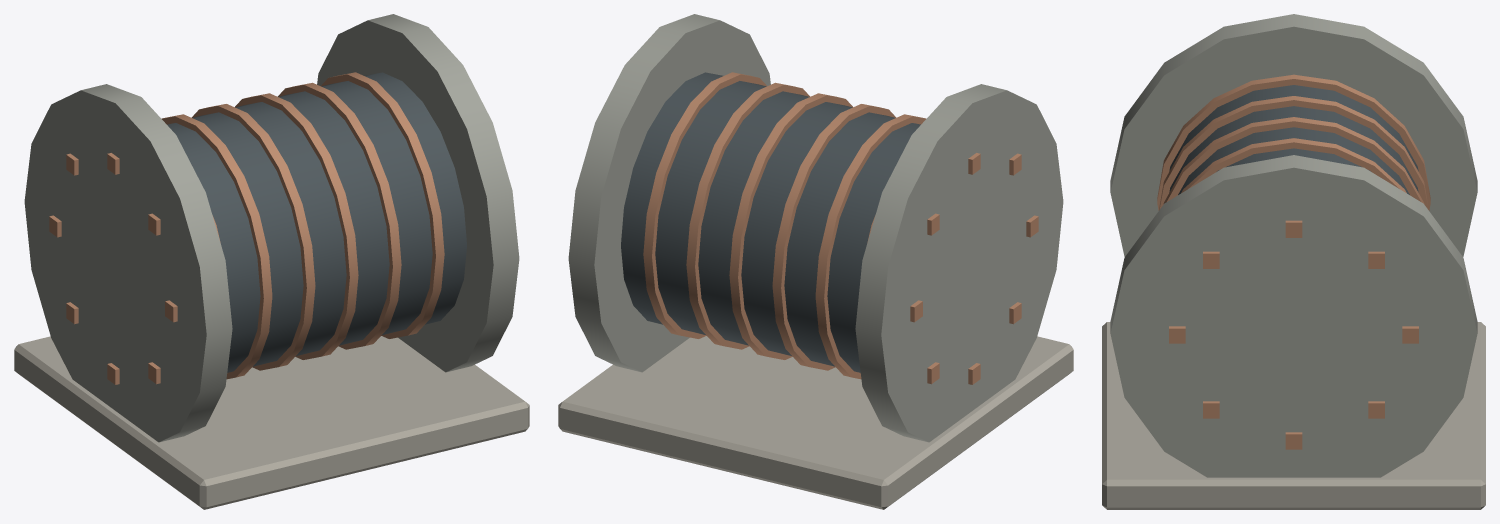
File: waste_cable_reel.glb
3 views of the same model, side by side, from view 1: azimuth 30°, elevation 25°; view 2: azimuth 150°, elevation 25°; view 3: azimuth 270°, elevation 25° (orthographic).
Visible parts, largest first — view 1: duststeel, blacksteel, concrete, duststeel.001, rust.019, rust.021, rust.018, rust.020, rust.017; view 2: duststeel, blacksteel, concrete, duststeel.001, rust.019, rust.021, rust.018, rust.020, rust.017; view 3: duststeel.001, duststeel, concrete, blacksteel, rust.016, rust.017, rust.018, rust.019.
Part boxes in pixels (x1,y1,x2,y2): duststeel: [24, 84, 232, 442]; blacksteel: [167, 72, 466, 372]; concrete: [14, 336, 529, 509]; duststeel.001: [317, 14, 519, 372]; rust.019: [235, 93, 358, 359]; rust.021: [321, 72, 444, 338]; rust.018: [191, 104, 315, 370]; rust.020: [277, 82, 401, 349]; rust.017: [161, 114, 272, 379]; duststeel: [855, 84, 1063, 442]; blacksteel: [621, 72, 920, 372]; concrete: [558, 336, 1073, 509]; duststeel.001: [568, 14, 770, 372]; rust.019: [729, 93, 852, 359]; rust.021: [643, 72, 766, 338]; rust.018: [772, 104, 896, 370]; rust.020: [686, 82, 810, 349]; rust.017: [815, 114, 926, 379]; duststeel.001: [1110, 155, 1477, 477]; duststeel: [1110, 14, 1477, 256]; concrete: [1102, 322, 1485, 509]; blacksteel: [1169, 85, 1418, 194]; rust.016: [1157, 74, 1430, 210]; rust.017: [1158, 96, 1429, 210]; rust.018: [1163, 117, 1424, 203]; rust.019: [1181, 138, 1406, 193].
Size of the model in its own units: 2.3 by 2.25 by 2.3.
